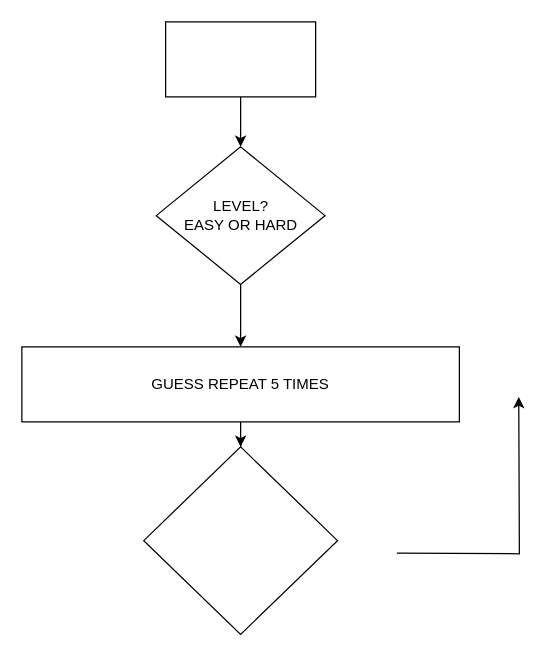
The diagram is 551 pixels wide and 656 high, and some of its shapes have lost their labels. The centre of each missing label's shape, as x and y in pixels:
"TAKE THE INPUT" goes at pixel 240 59.
"USER NUMBER > GUESS NUMBER" goes at pixel 240 540.
